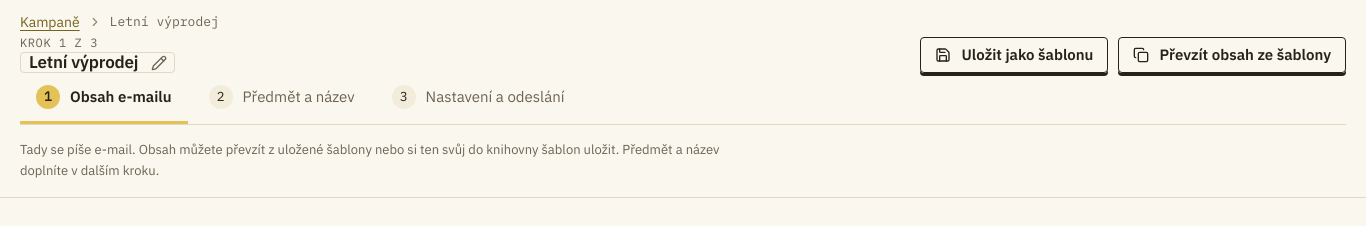
it: editor jako krok 1 kampaně › nabídka vysvětluje, že se šablona převzetím nemění
The width and height of the screenshot is (1366, 226).
Step 1. Click the button with test id "use-library-open" → (1232, 55), box [1118,37,1346,73]
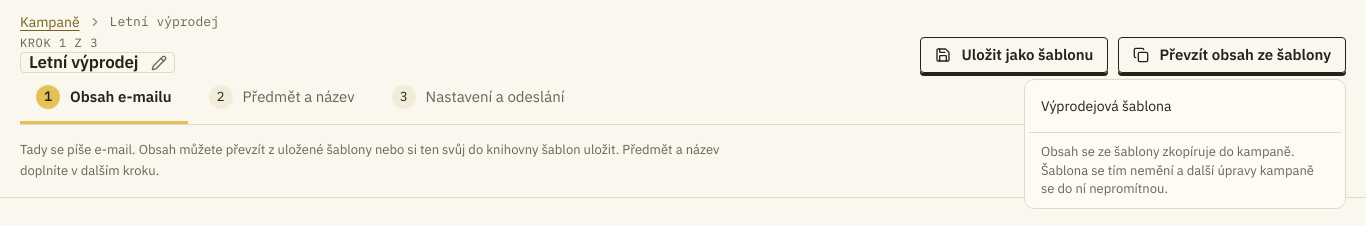
expect the text "Šablona se tím nemění" is shown: met, box [1041,143,1314,197]
